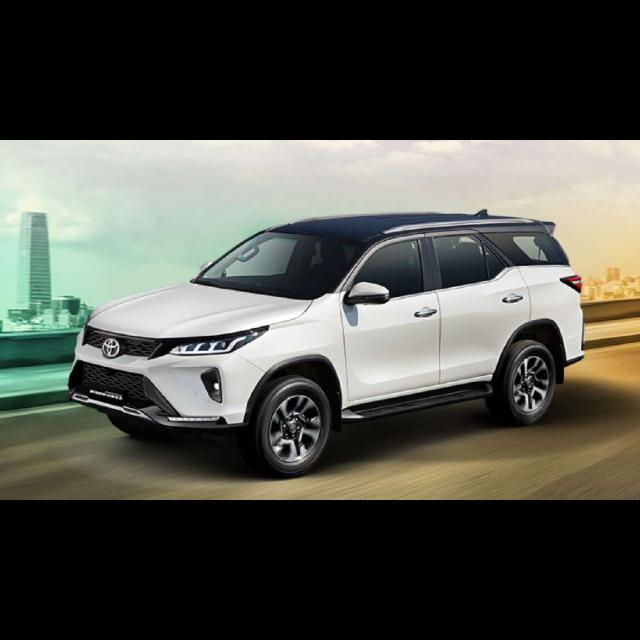vehicles: (66, 207, 584, 478)
